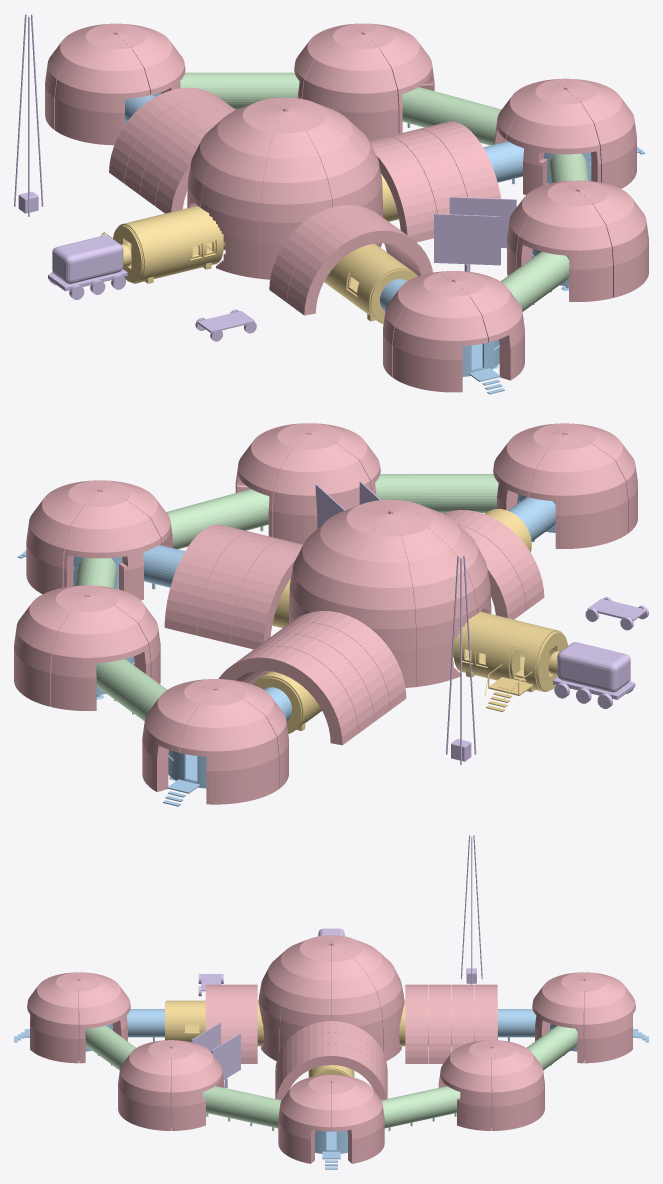
The model's file is project3_big_board_1to100.glb.
3 views of the same model, one above another, from view 1: azimuth 30°, elevation 25°; view 2: azimuth 150°, elevation 25°; view 3: azimuth 270°, elevation 25° (orthographic). The views are drawn at different scales.
Visible parts, largest first — view 1: 15_Regolith_Shields_optional_removable, 16_Exterior_Rover_LTV_Comms_Radiators, 14_Loop_Hallways, 05_Module_Airlock_EVA, 08_Module_Wellness, 11_Node_Medical_StormShelter, 10_Node_Maintenance; view 2: 15_Regolith_Shields_optional_removable, 14_Loop_Hallways, 16_Exterior_Rover_LTV_Comms_Radiators, 05_Module_Airlock_EVA, 09_Node_Command, 10_Node_Maintenance, 06_Module_Lab, 11_Node_Medical_StormShelter, 08_Module_Wellness; view 3: 15_Regolith_Shields_optional_removable, 14_Loop_Hallways, 16_Exterior_Rover_LTV_Comms_Radiators, 08_Module_Wellness, 09_Node_Command, 11_Node_Medical_StormShelter, 10_Node_Maintenance.
Boxes of the visible parts, x1,y1,x2,y2 form: 15_Regolith_Shields_optional_removable: (45,23,648,392); 16_Exterior_Rover_LTV_Comms_Radiators: (14,14,516,341); 14_Loop_Hallways: (180,72,588,311); 05_Module_Airlock_EVA: (100,205,225,283); 08_Module_Wellness: (324,243,417,324); 11_Node_Medical_StormShelter: (380,279,504,394); 10_Node_Maintenance: (483,141,645,184); 15_Regolith_Shields_optional_removable: (14,423,637,804); 14_Loop_Hallways: (76,474,498,720); 16_Exterior_Rover_LTV_Comms_Radiators: (315,481,648,764); 05_Module_Airlock_EVA: (451,611,567,711); 09_Node_Command: (163,687,291,806); 10_Node_Maintenance: (17,545,184,589); 06_Module_Lab: (253,671,321,733); 11_Node_Medical_StormShelter: (508,494,555,541); 08_Module_Wellness: (484,509,531,552); 15_Regolith_Shields_optional_removable: (27,935,635,1163); 14_Loop_Hallways: (85,1025,577,1130); 16_Exterior_Rover_LTV_Comms_Radiators: (191,835,482,1087); 08_Module_Wellness: (165,1000,263,1046); 09_Node_Command: (498,1009,648,1051); 11_Node_Medical_StormShelter: (14,1009,164,1051); 10_Node_Maintenance: (315,1076,347,1169).
Size of the model in its own units: 504 by 164 by 634.
